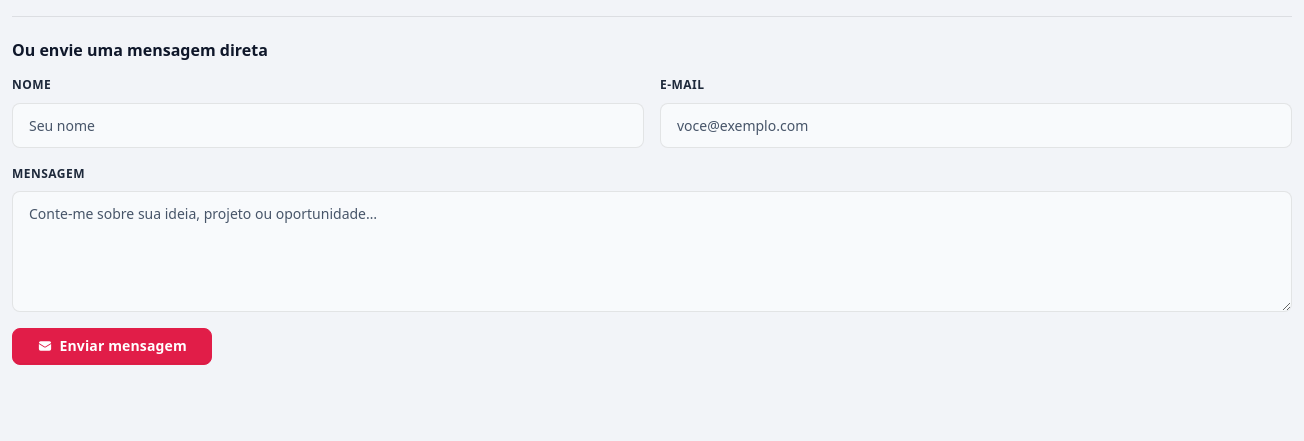
it: ContactForm › valida campos e exibe mensagens de erro sem enviar
The width and height of the screenshot is (1304, 441).
Click the button "Enviar mensagem" at (112, 346), box [12,328,212,365]
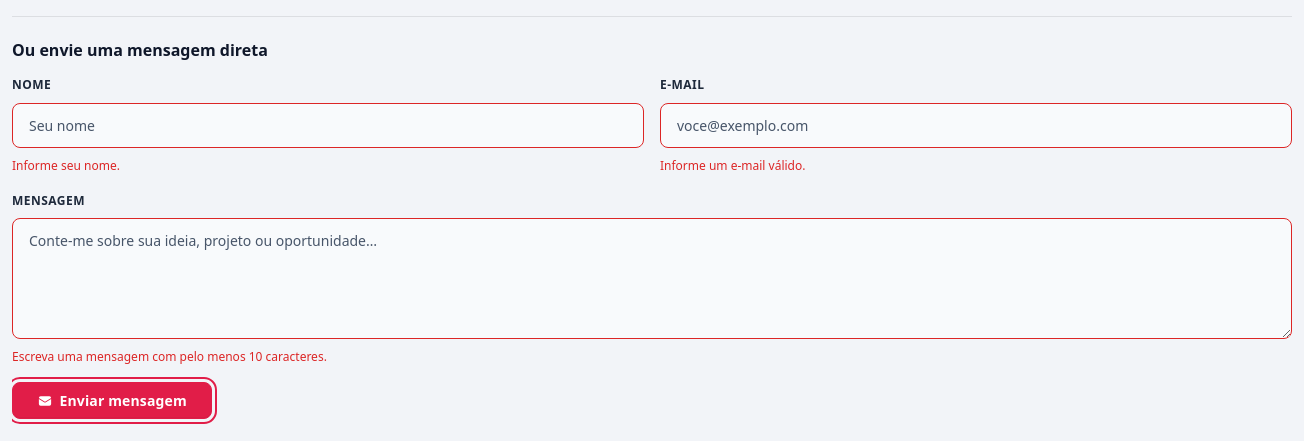
Check: the text "Informe seu nome." is shown, box [12,157,120,174]
Check: the text "Informe um e-mail válido." is shown, box [660,157,806,174]
